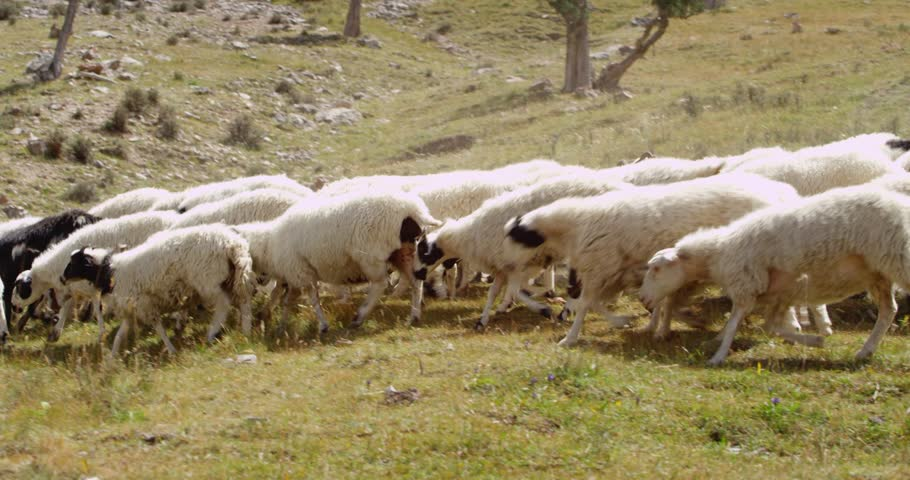sheep: (642, 182, 910, 365), (407, 173, 605, 331), (58, 220, 252, 370), (6, 211, 183, 358), (498, 193, 651, 354)
